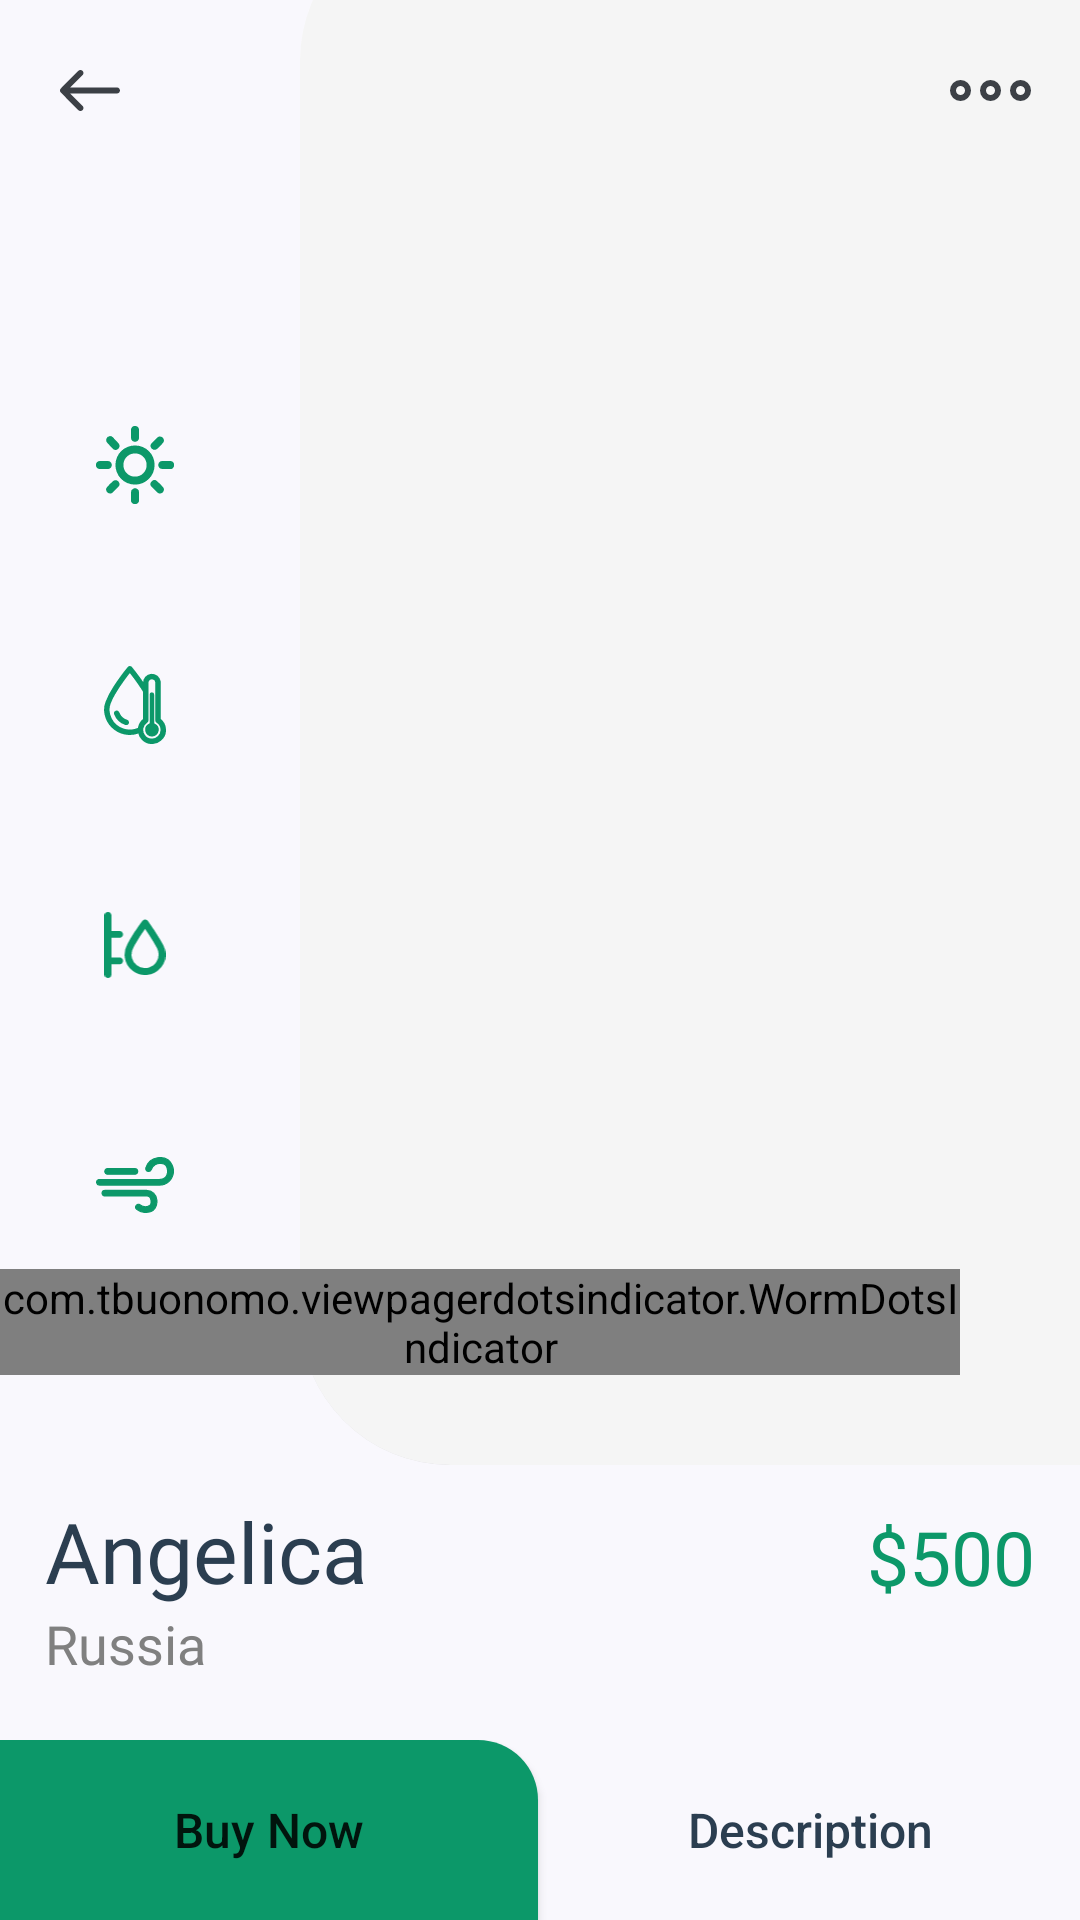

Icon bounding boxes for this 1080w x 1920h phone screenshot, format (x1, y1, x2, y2):
back arrow: (60, 70, 120, 111)
more: (950, 80, 1031, 101)
